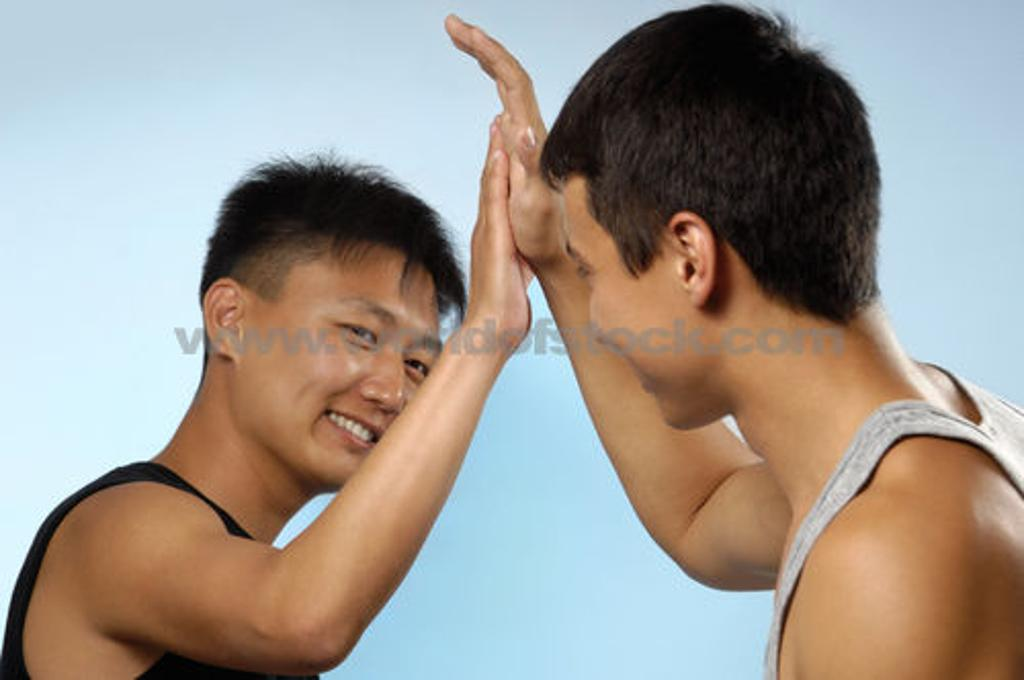face: (242, 244, 442, 484), (564, 172, 680, 430)
